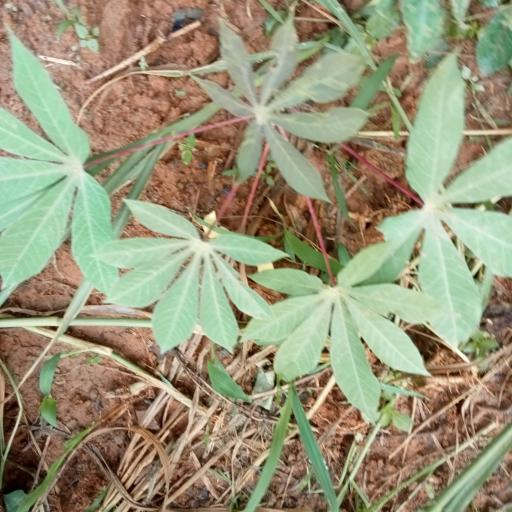Cassava_Mosaic: (392, 55, 512, 343), (104, 200, 280, 348), (259, 250, 420, 407), (209, 29, 360, 189), (0, 52, 100, 291)
